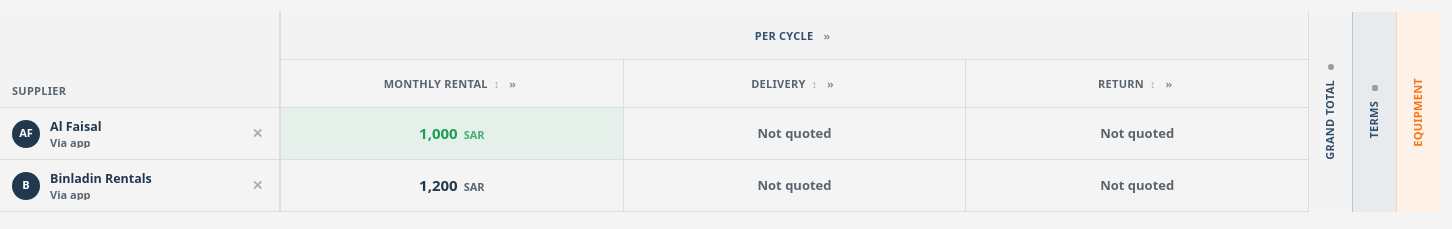
every term the bids carry gets a column › draws the ones the old fixed list dropped
This screenshot has width=1452, height=229.
What coordinates should you click on to do the following:
click the button "Terms"
I would click on:
 (1374, 112)
Its box is [1352,12,1396,212].
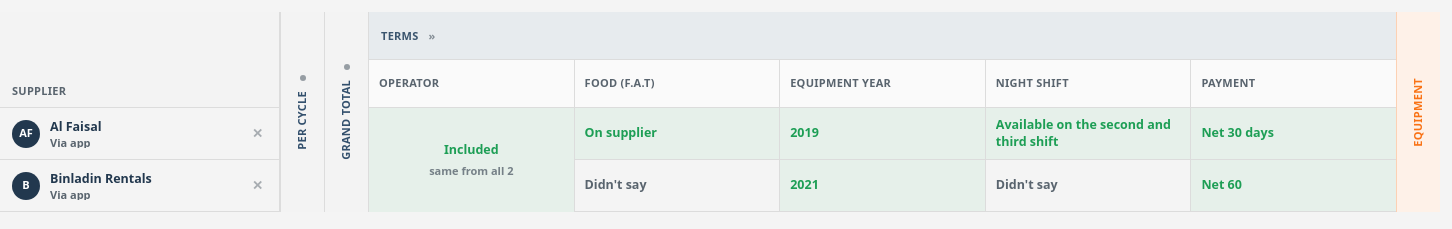
expect the text "Operator" is shown: met, box [379,77,439,90]
expect the text "Equipment year" is shown: met, box [790,77,891,90]
expect the text "Payment" is shown: met, box [1201,77,1255,90]
